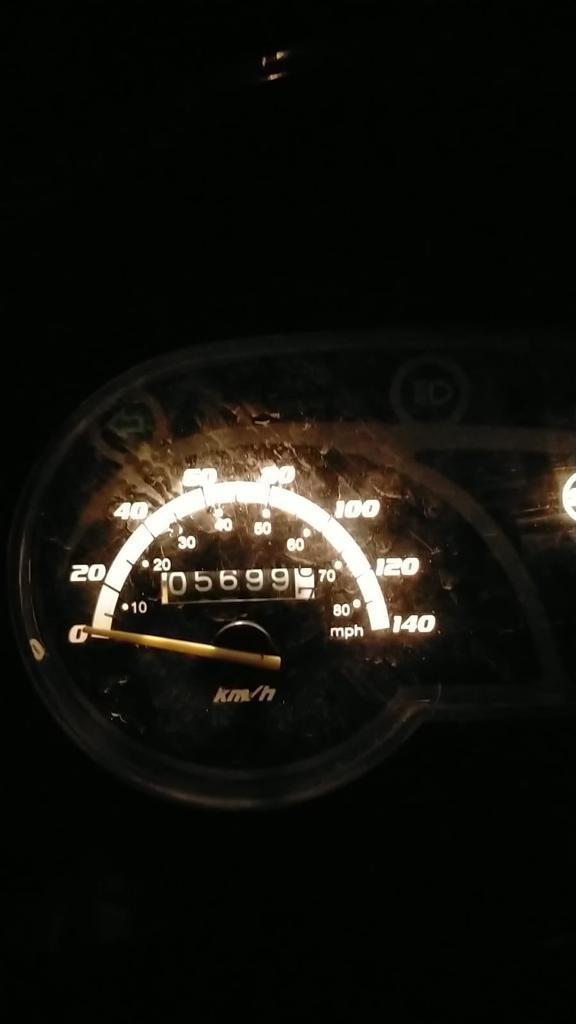0: (168, 570, 188, 599)
5: (191, 568, 214, 595)
6: (216, 567, 240, 594)
7: (294, 580, 316, 603)
9: (270, 568, 289, 593), (245, 568, 263, 593)
odometer: (159, 566, 318, 605)
